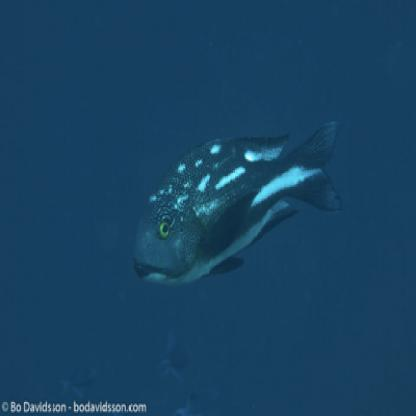snapper: (130, 104, 345, 294)
